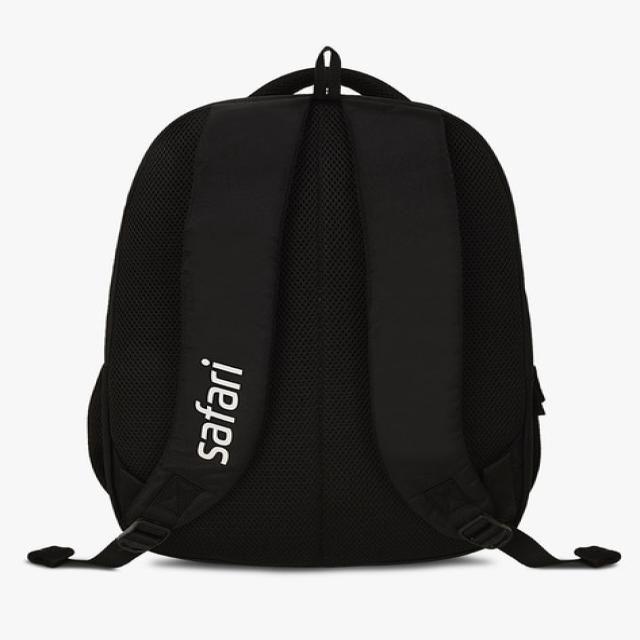backpack: (28, 46, 621, 572)
